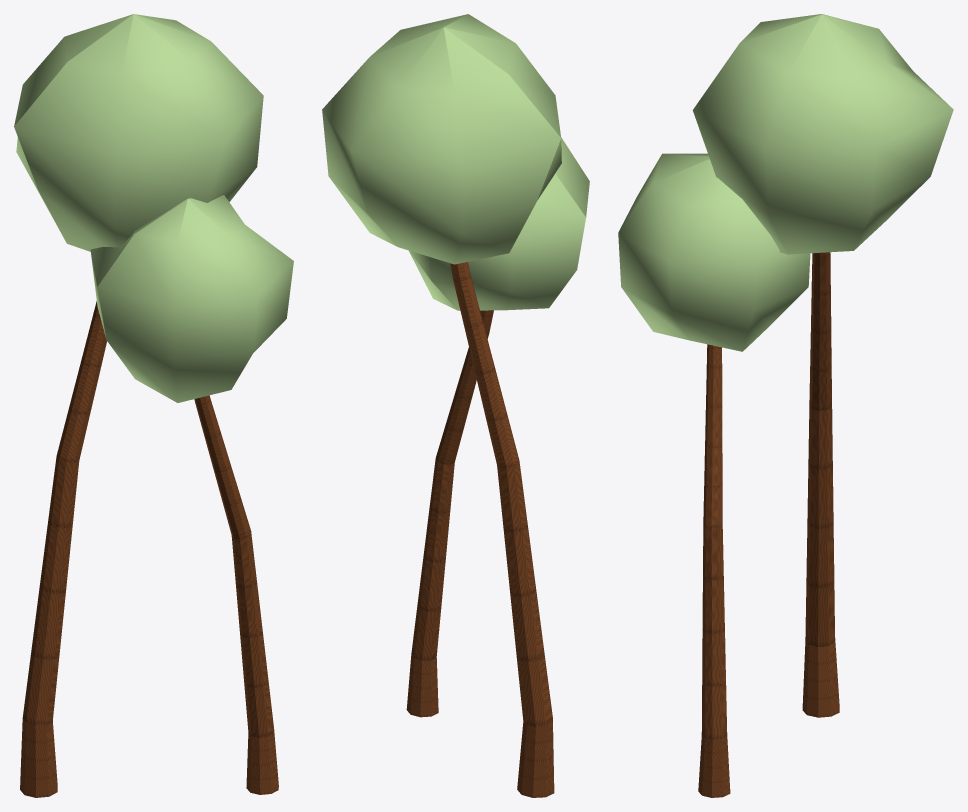
The model's file is sapling_pair.glb.
The picture shows the model from 3 angles, left to right: view 1: azimuth 30°, elevation 25°; view 2: azimuth 150°, elevation 25°; view 3: azimuth 270°, elevation 25°; orthographic projection.
Visible parts, largest first — view 1: sapling-pair; view 2: sapling-pair; view 3: sapling-pair.
Part boxes in pixels (<box>): sapling-pair: <box>14,14,293,797</box>; sapling-pair: <box>322,14,589,797</box>; sapling-pair: <box>618,14,953,797</box>.
Bounding box in the file's own units: 0.5882 × 1.91 × 0.784.
Materials: 2 (1 with a texture image).
